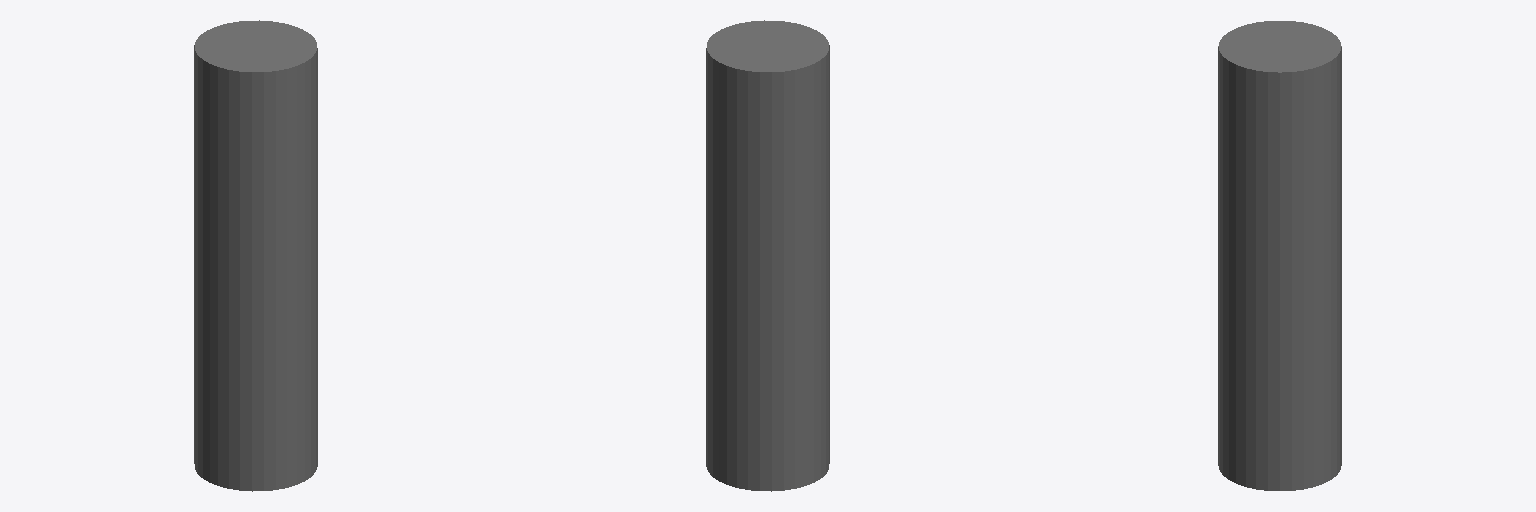
robot.urdf — cylinder_pillar:
<?xml version="1.0"?>
<robot name="cylinder_pillar">
  <link name="base_link">
    <visual>
      <geometry>
        <cylinder radius="0.2" length="1.5"/>
      </geometry>
      <material name="grey">
        <color rgba="0.5 0.5 0.5 1.0"/>
      </material>
    </visual>
    <collision>
      <geometry>
        <cylinder radius="0.2" length="1.5"/>
      </geometry>
    </collision>
    <inertial>
      <mass value="20"/>
      <inertia ixx="1.0" ixy="0.0" ixz="0.0" iyy="1.0" iyz="0.0" izz="1.0"/>
    </inertial>
  </link>
</robot>

--- What the picture shows (computed from the rendered views, not written in the file) ---
3 views of the same robot in one strip: view 1: azimuth 30°, elevation 25°; view 2: azimuth 150°, elevation 25°; view 3: azimuth 270°, elevation 25° (orthographic).
Robot: cylinder_pillar — 1 links, 0 joints (none); root link base_link; default pose: every joint at zero.
Visible links, largest first — view 1: base_link; view 2: base_link; view 3: base_link.
Boxes of the visible links, x1,y1,x2,y2 form: base_link: (194, 20, 317, 491); base_link: (706, 20, 829, 491); base_link: (1218, 21, 1341, 490).
Bounding box of the posed robot: 0.4 × 0.4 × 1.5 m (x, y, z).
Geometry: primitives only (box / cylinder / sphere), no mesh files.